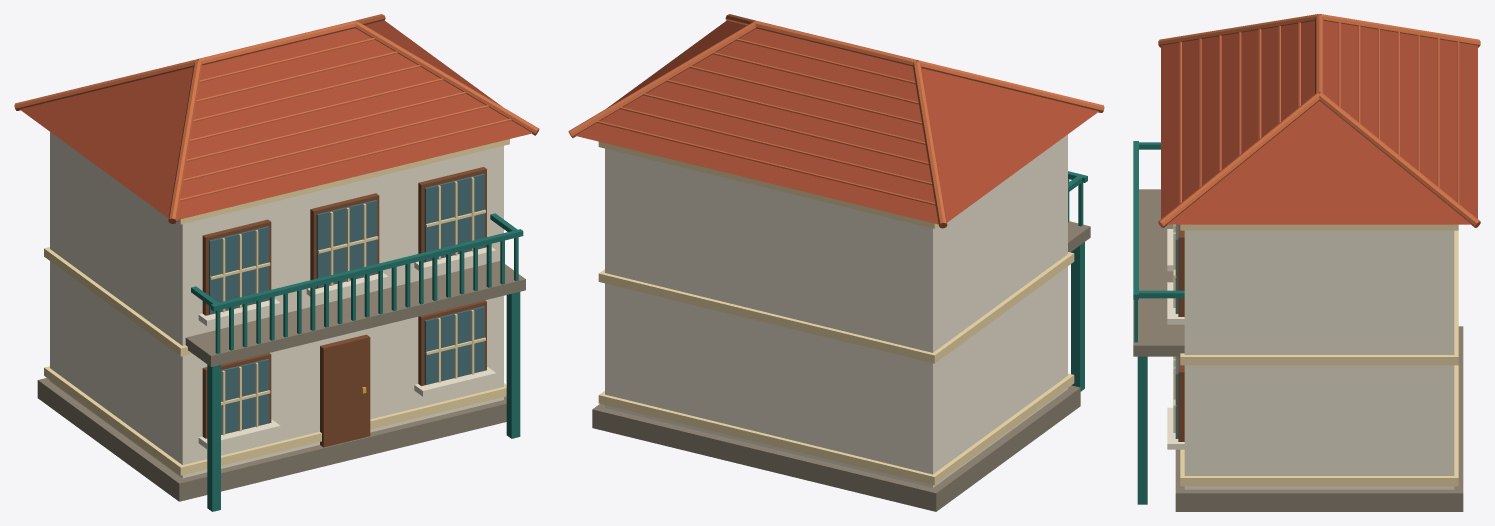
File: Fort_Kochi_Townhouse.glb
3 renders of one model, left to right at view 1: azimuth 30°, elevation 25°; view 2: azimuth 150°, elevation 25°; view 3: azimuth 270°, elevation 25°, orthographic. The views are drawn at different scales.
Visible parts, largest first — view 1: Fort_Kochi_Townhouse; view 2: Fort_Kochi_Townhouse; view 3: Fort_Kochi_Townhouse.
Part boxes in pixels (x1=…): Fort_Kochi_Townhouse: x1=14, y1=14, x2=539, y2=511; Fort_Kochi_Townhouse: x1=568, y1=14, x2=1104, y2=511; Fort_Kochi_Townhouse: x1=1133, y1=14, x2=1480, y2=511.
Size of the model in its own units: 8.08 by 7.68 by 6.45.
